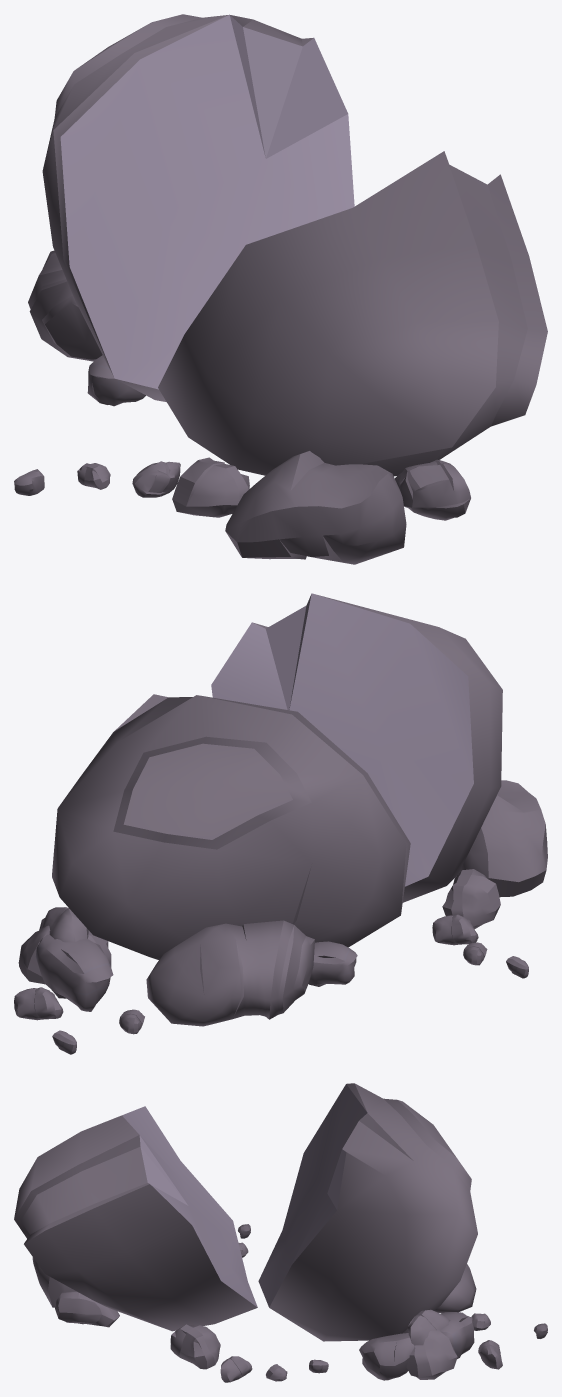
Rendered from P_stone_split_01.fbx.
3 views of the same model, one above another, from view 1: azimuth 30°, elevation 25°; view 2: azimuth 150°, elevation 25°; view 3: azimuth 270°, elevation 25° (orthographic). The views are drawn at different scales.
Parts seen in each view (by area): view 1: lod1; view 2: lod1; view 3: lod1.
Part boxes in pixels (x1=…): lod1: x1=14, y1=14, x2=547, y2=564; lod1: x1=14, y1=593, x2=547, y2=1054; lod1: x1=14, y1=1083, x2=547, y2=1382.
Size of what is drawn, in the model's own units: 543 by 381 by 821.
